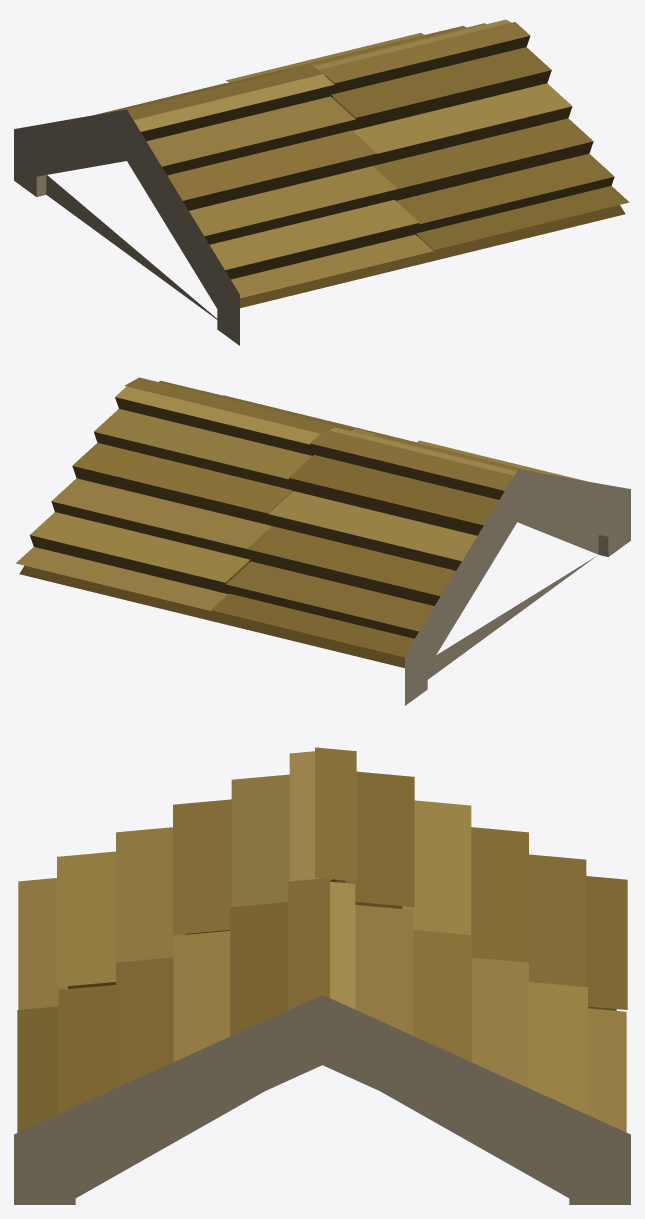
File: roof-gable-top-thatch.glb
3 renders of one model, top to bottom at view 1: azimuth 30°, elevation 25°; view 2: azimuth 150°, elevation 25°; view 3: azimuth 270°, elevation 25°, orthographic. The views are drawn at different scales.
Parts seen in each view (by area): view 1: roof-gable-top-thatch; view 2: roof-gable-top-thatch; view 3: roof-gable-top-thatch.
Part boxes in pixels (x1,y1,x2,y2): roof-gable-top-thatch: [14, 19, 629, 345]; roof-gable-top-thatch: [16, 377, 630, 705]; roof-gable-top-thatch: [14, 747, 630, 1204].
Bounding box in the file's own units: 1 × 0.3759 × 1.
